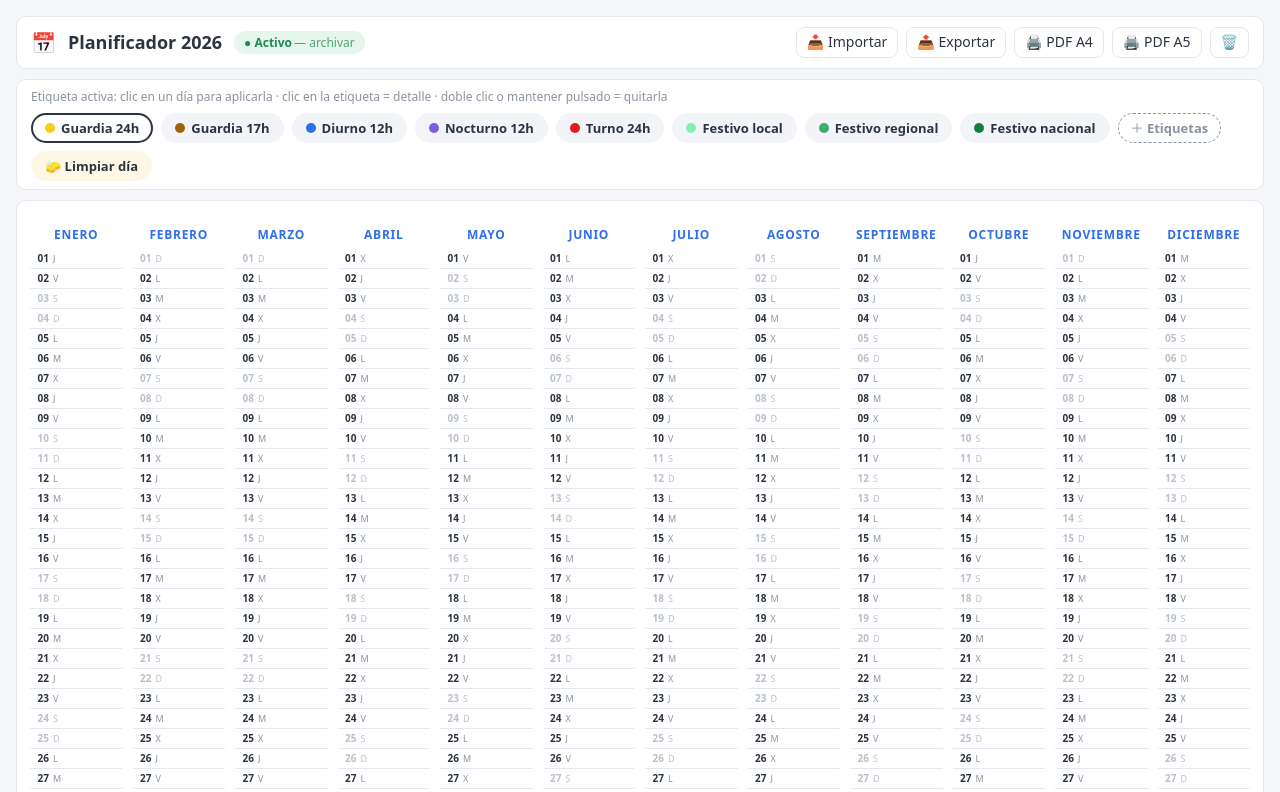
Test: tag detail modal › edits the subtitle and reflects it on the chip tooltip
This screenshot has width=1280, height=792.
Click the 1st text with class "day__number" at (43, 258), box [38,251,49,265]
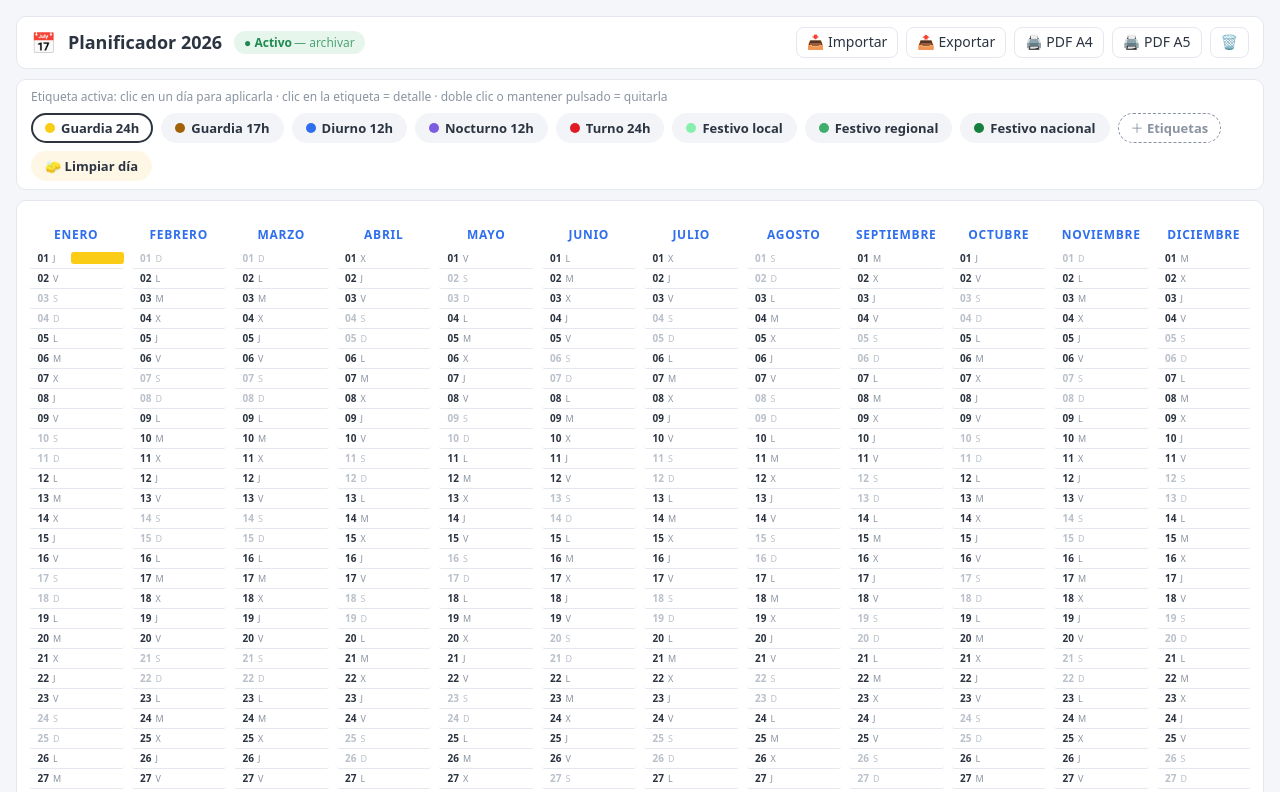
Click the button with class "tag-chip" at (97, 258), box [71,252,124,264]
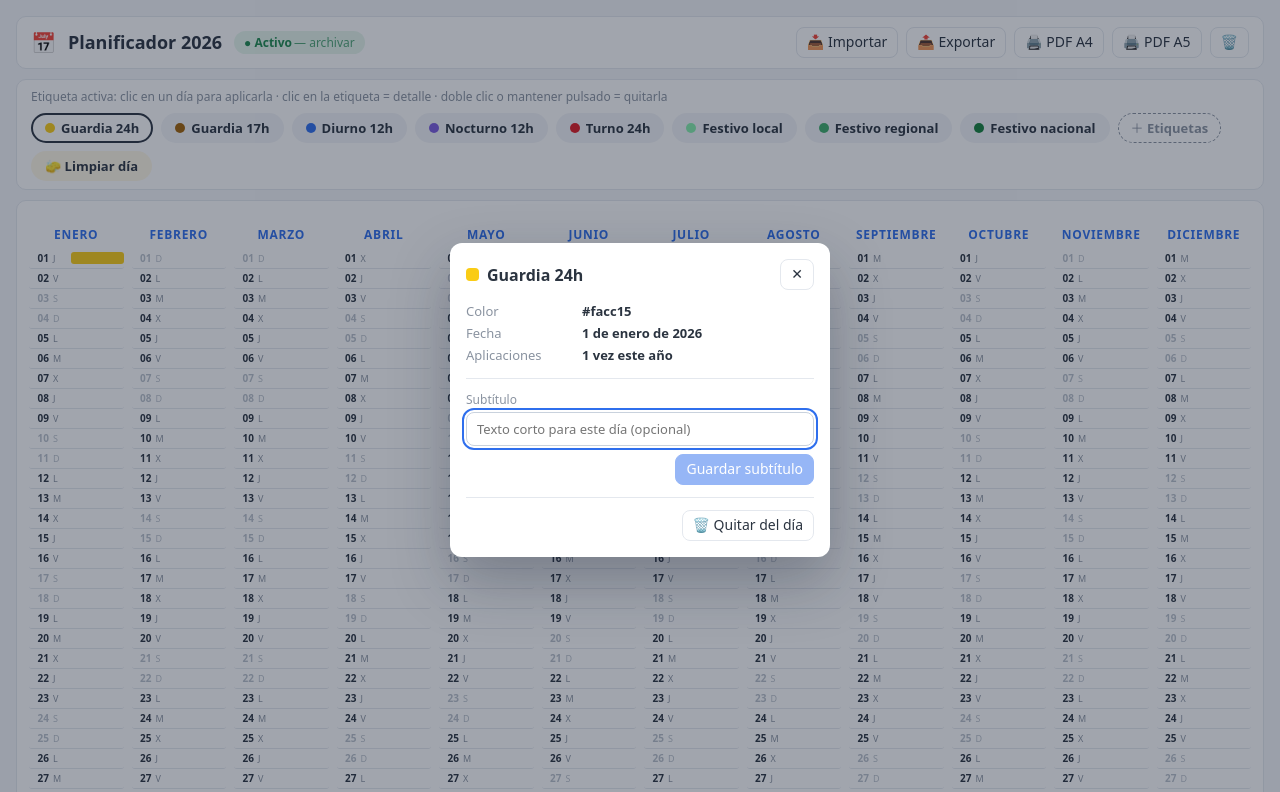
Now the dialog with class "modal--tag-detail" is shown, box [450,243,830,557]
Type "de tarde" into the field labelled "Subtítulo" at (640, 429), box [466,412,814,446]
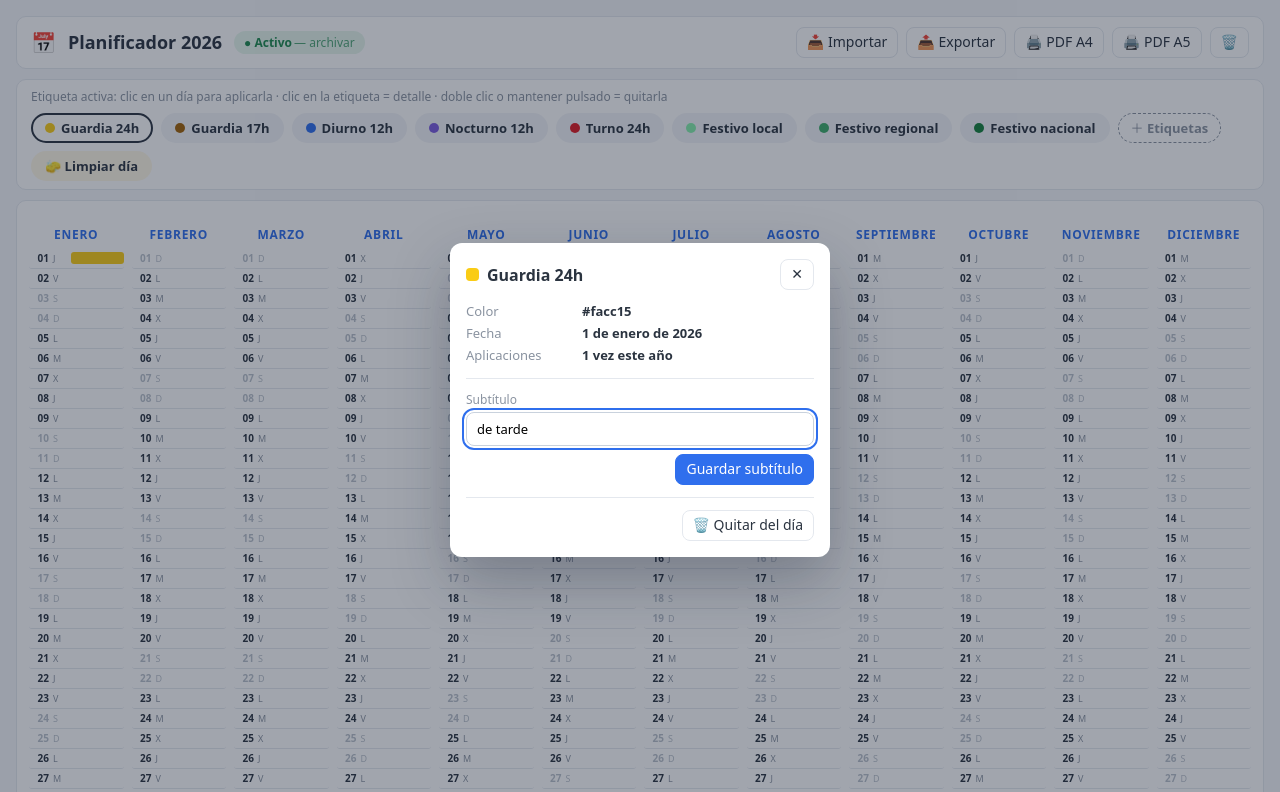
Click the submit button at (745, 470), box [676,454,814,485]
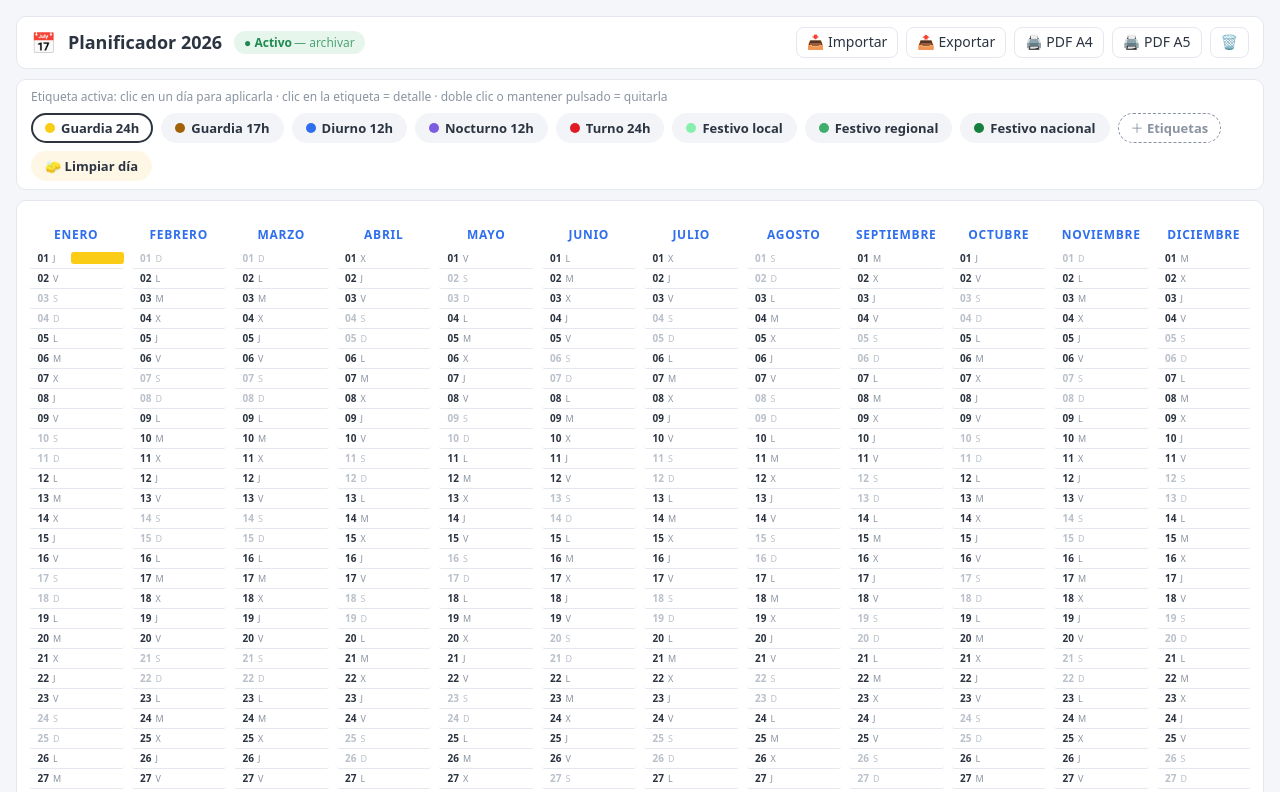
Now the dialog with class "modal--tag-detail" is gone
